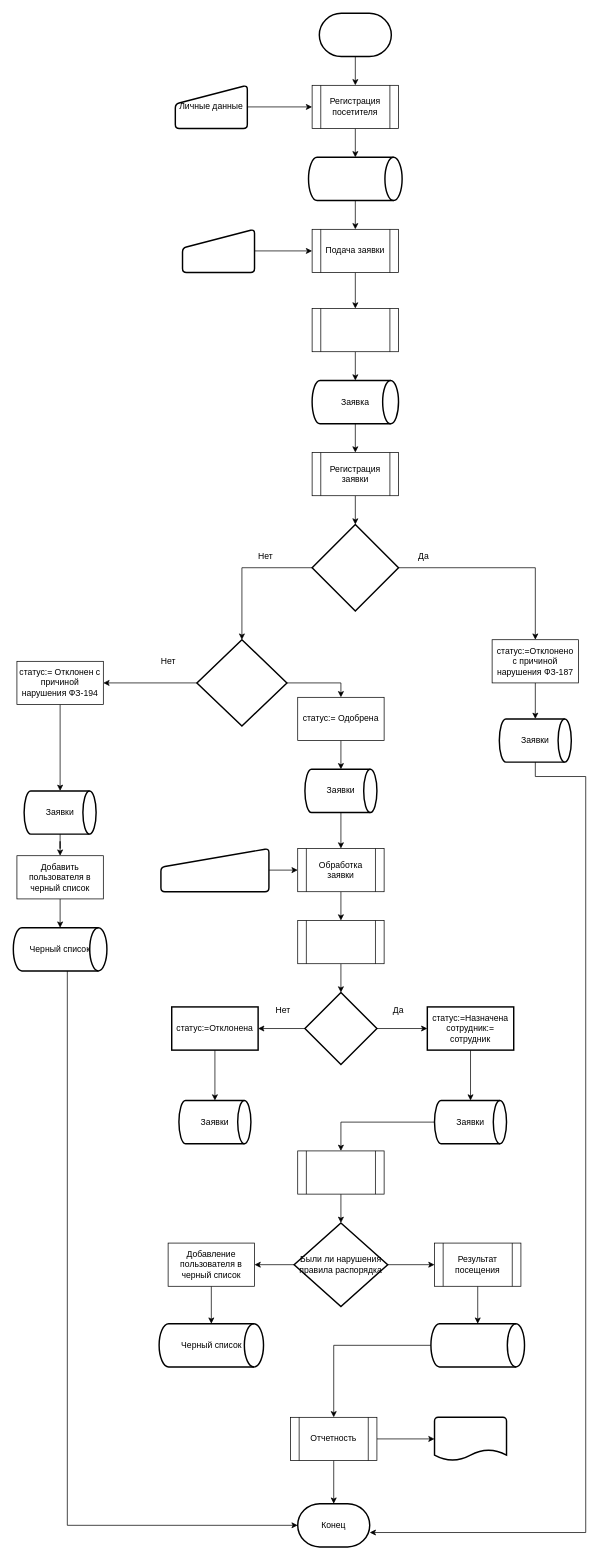
Some shapes in this 604 by 1560 pixel diagram are drawn without their labels. The centre of each missing label's shape, as x and y in pixels:
"Данные о заявке" belongs at (x=218, y=250).
"Дата и время посещения длительность" belongs at (x=214, y=869).
"Достоверны ли данные о пользователе" belongs at (x=241, y=682).
"Начало" belongs at (x=355, y=34).
"Отчет о посещениях" belongs at (x=470, y=1438).
"Подтверждена ли заявка?" belongs at (x=340, y=1028).
"Пользователь в черном списке?" belongs at (x=355, y=567).
"Посетители" belongs at (x=354, y=178).
"Посещаемость" belongs at (x=477, y=1345).
"Посещение" belongs at (x=340, y=1172).
"Проверка данных" belongs at (x=355, y=330).
"Связь с посетителем" belongs at (x=340, y=942).
